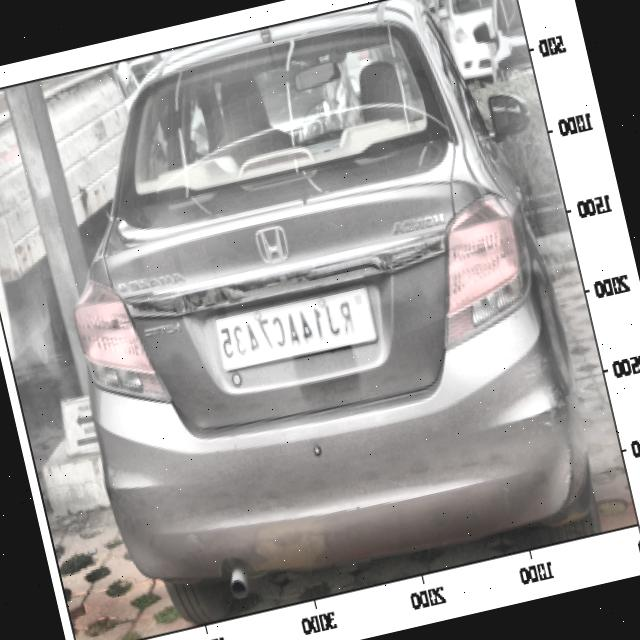license_plate: (212, 282, 367, 368)
